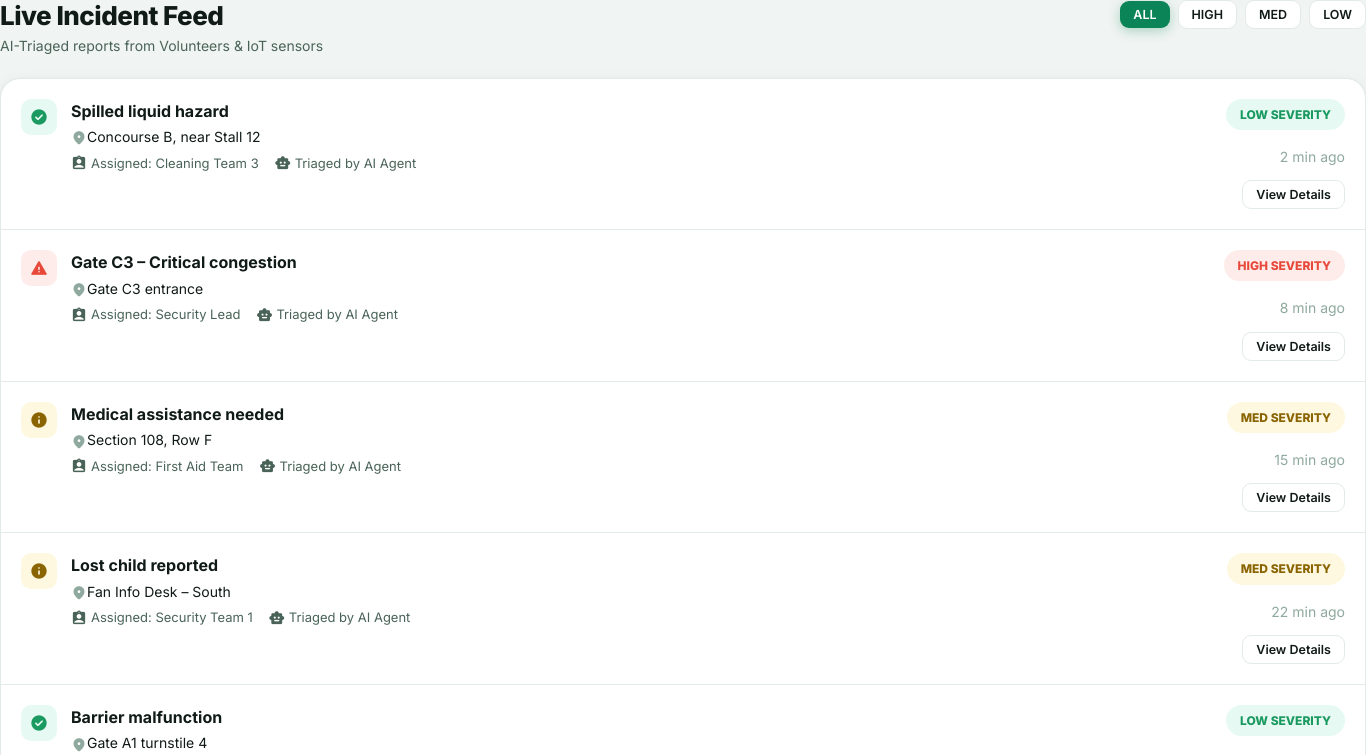
Test: IncidentFeed Component › filters to MED severity incidents only
Click the button "MED" at (1273, 14), box x1=1245 y1=0 x2=1301 y2=29
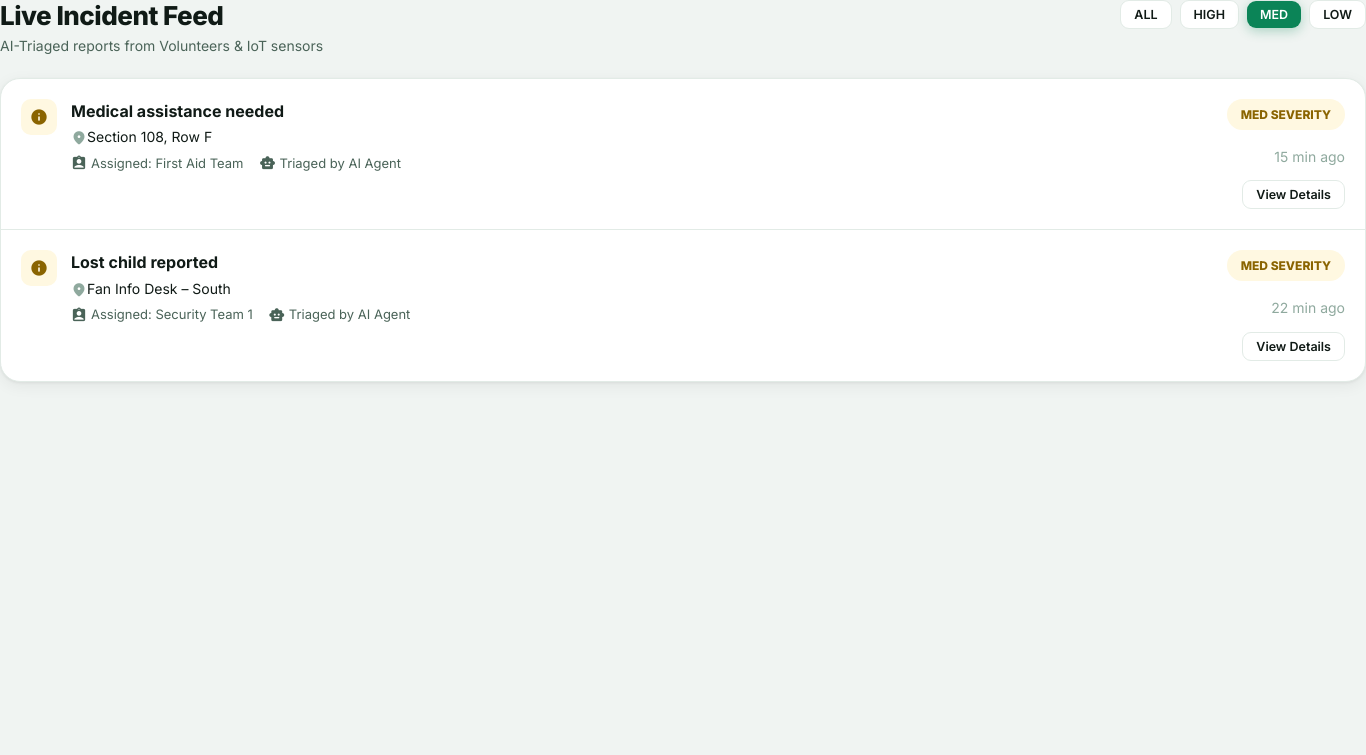
Expected: the heading "Medical assistance needed" is shown, x1=71 y1=101 x2=284 y2=121
Result: the heading "Spilled liquid hazard" is gone
Result: the heading "Gate C3 – Critical congestion" is gone
